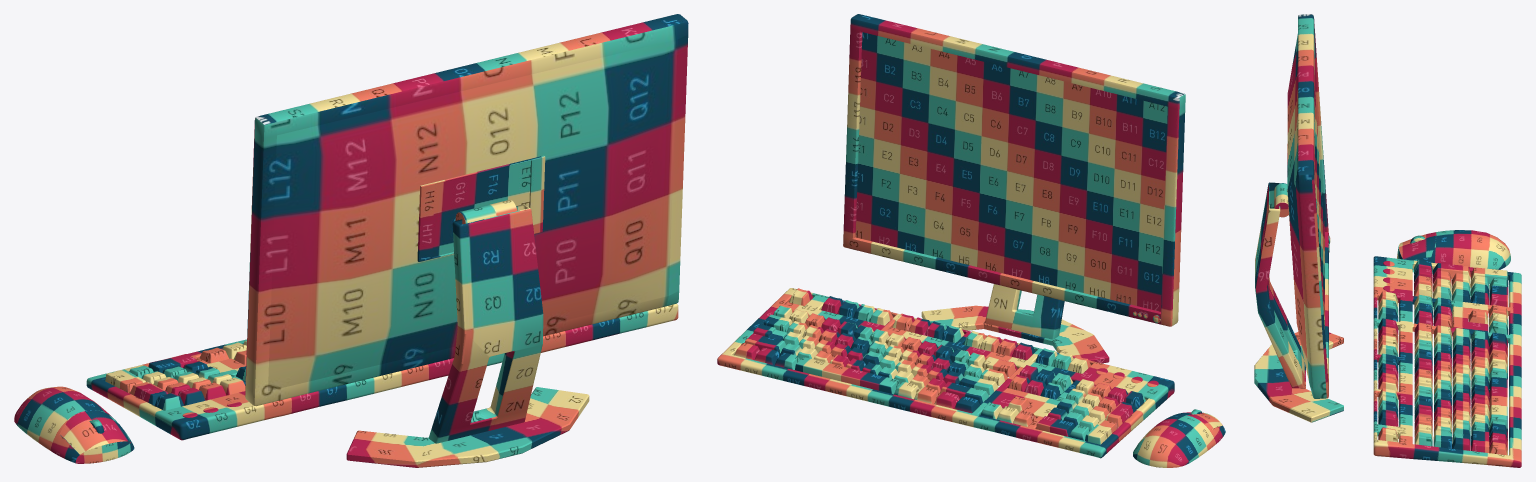
File: computer.fbx
3 renders of one model, left to right at view 1: azimuth 30°, elevation 25°; view 2: azimuth 150°, elevation 25°; view 3: azimuth 270°, elevation 25°, orthographic. The views are drawn at different scales.
Parts seen in each view (by area): view 1: computer1; view 2: computer1; view 3: computer1.
Boxes of the visible parts, x1,y1,x2,y2 form: computer1: (14,14,688,467); computer1: (717,14,1225,467); computer1: (1254,14,1521,467).
Bounding box in the file's own units: 67.9 × 40.18 × 34.33.
